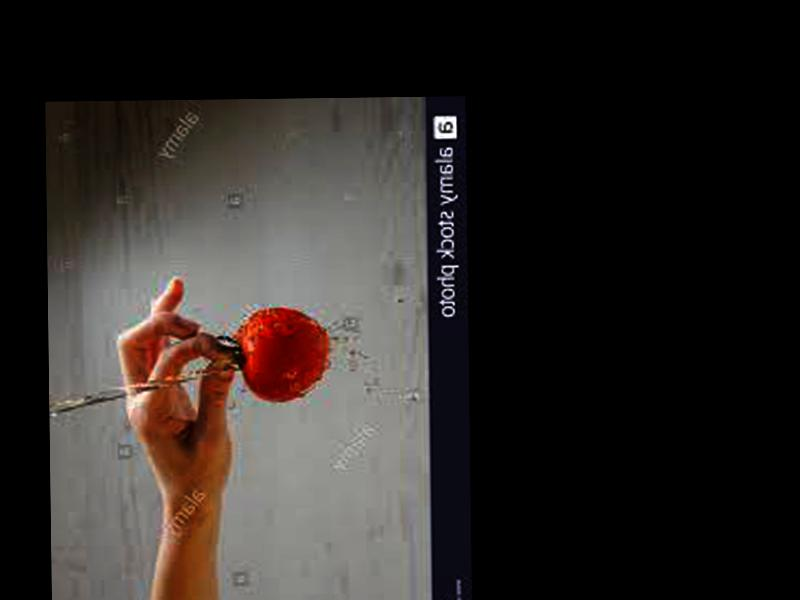Tomato: (238, 310, 331, 405)
